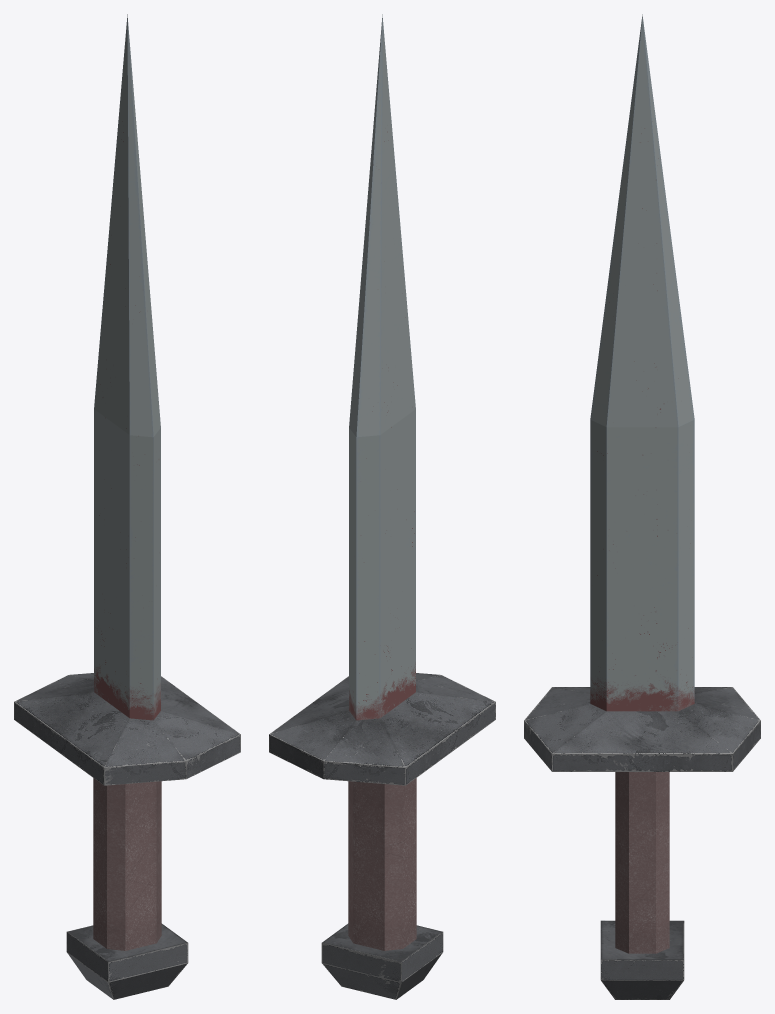
The model's file is Sword.fbx.
3 views of the same model, side by side, from view 1: azimuth 30°, elevation 25°; view 2: azimuth 150°, elevation 25°; view 3: azimuth 270°, elevation 25° (orthographic).
Visible parts, largest first — view 1: Sword; view 2: Sword; view 3: Sword.
Part boxes in pixels (left/top/right/bottom): Sword: left=14, top=14, right=240, bottom=999; Sword: left=269, top=14, right=495, bottom=999; Sword: left=524, top=14, right=760, bottom=999.
Bounding box in the file's own units: 0.2466 × 1.67 × 0.3688.
